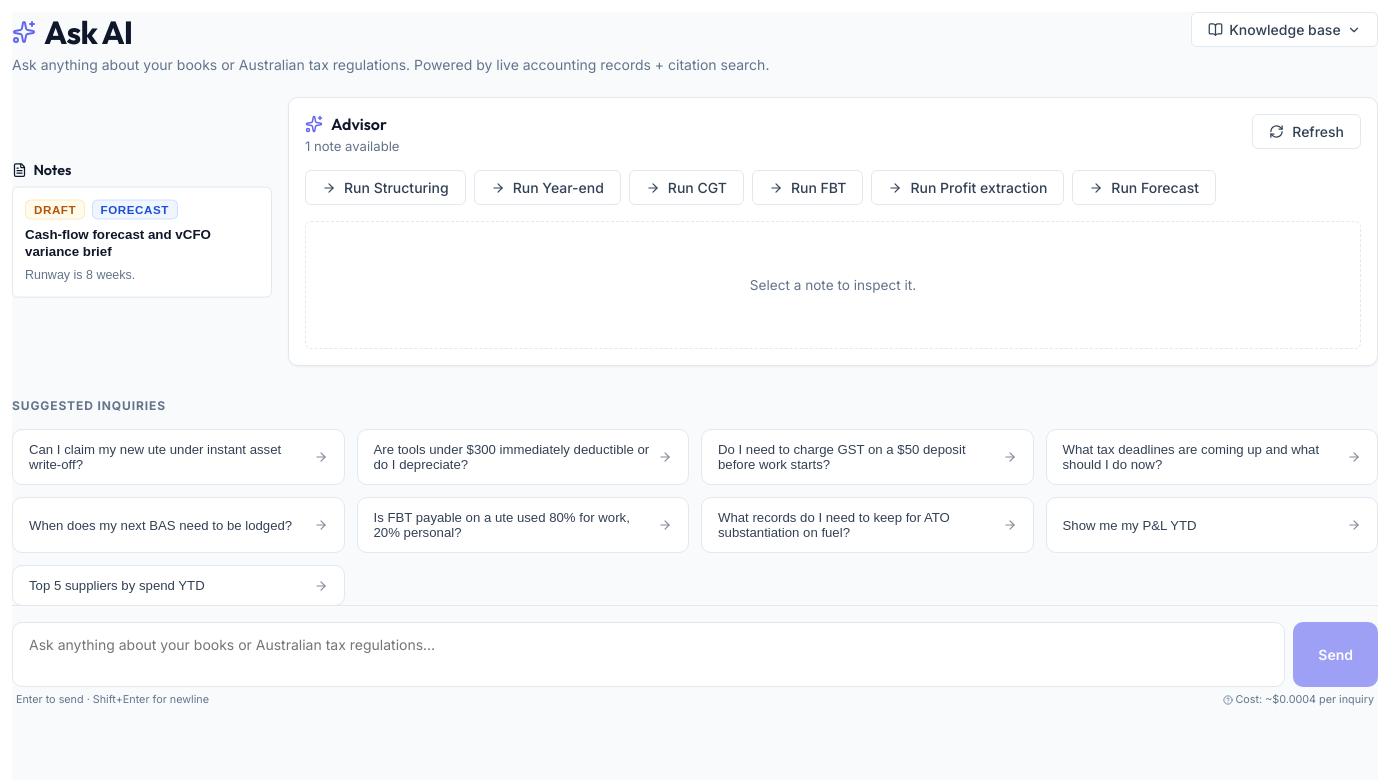
AskPage advisor surface › runs an advisor scenario through the advisor function and opens the returned note
Click the button "Run Forecast" at (1144,188), box [1072,170,1216,205]
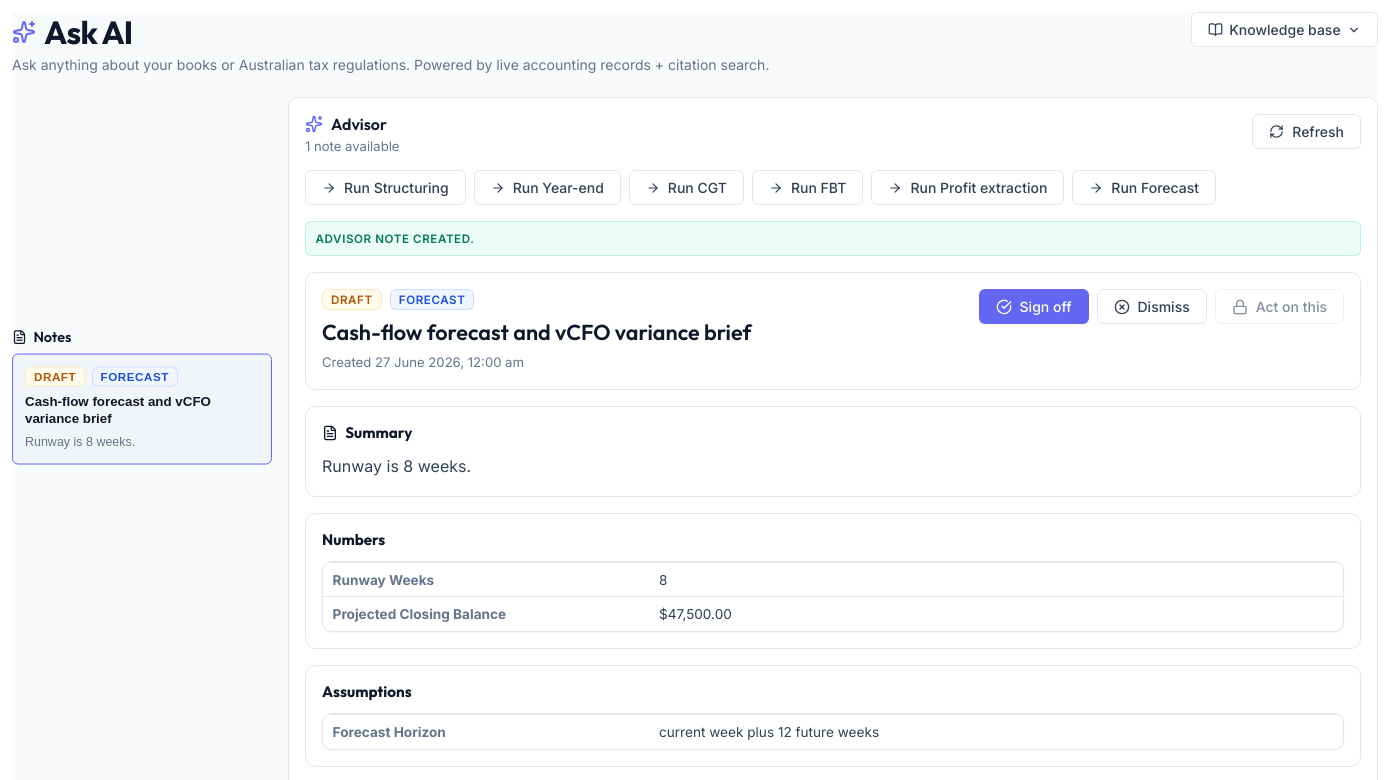
Expected: the text "Advisor note created." is shown, [305,221,1361,256]
Expected: the heading "Cash-flow forecast and vCFO variance brief" is shown, [322,318,752,346]
